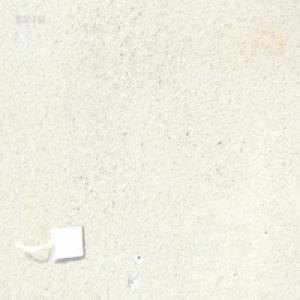LuggageTag: (14, 222, 87, 264)
